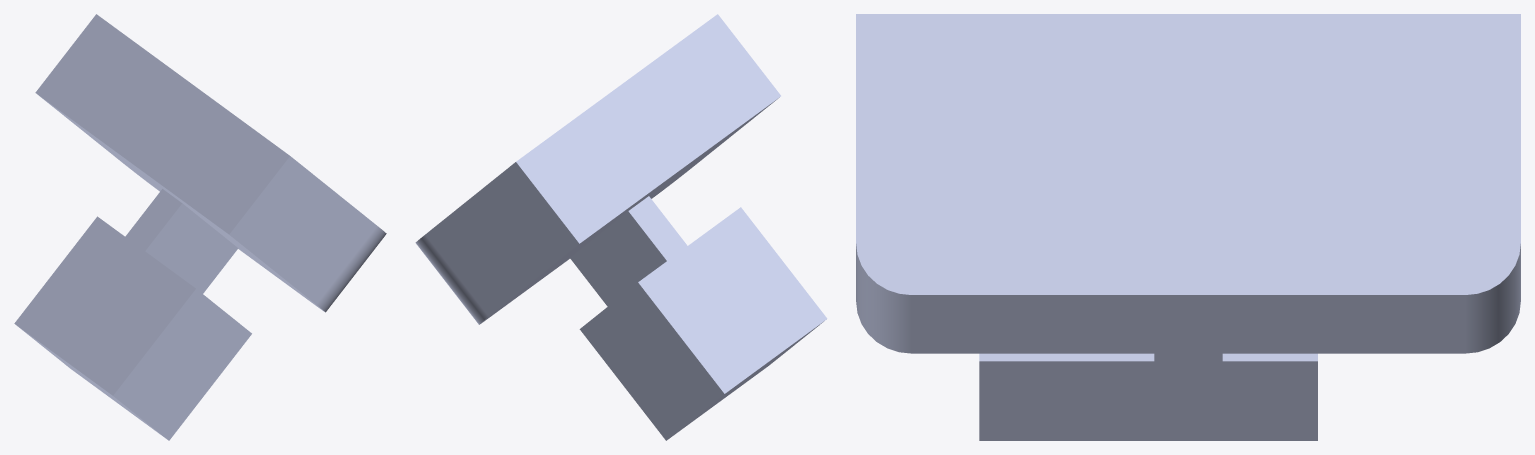
File: body69_visual.obj
The picture shows the model from 3 angles, left to right: view 1: azimuth 30°, elevation 25°; view 2: azimuth 150°, elevation 25°; view 3: azimuth 270°, elevation 25°; orthographic projection. The views are drawn at different scales.
Visible parts, largest first — view 1: Body69; view 2: Body69; view 3: Body69.
Boxes of the visible parts, x1=… form: Body69: x1=14, y1=14, x2=386, y2=440; Body69: x1=415, y1=14, x2=827, y2=440; Body69: x1=856, y1=14, x2=1520, y2=440.
Size of the model in its own units: 0.0887 by 0.0992 by 0.12.
